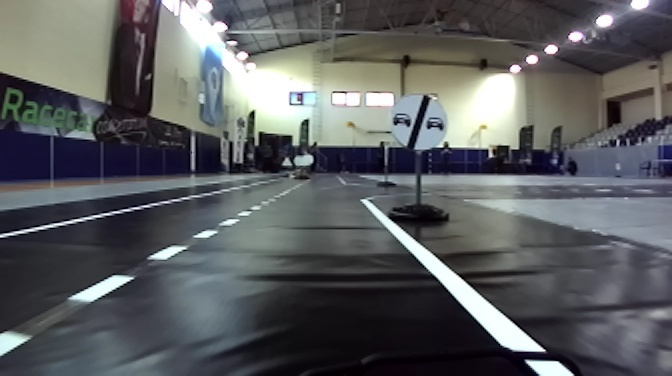sollama_serbest: (392, 91, 449, 148)
